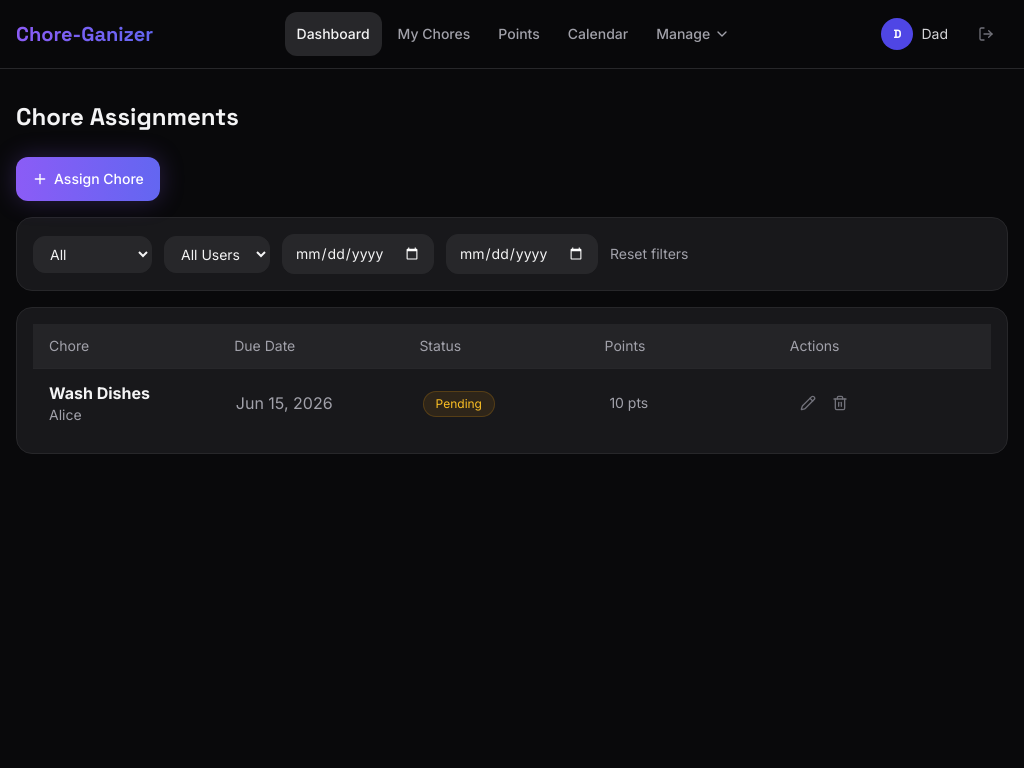
Test: AssignmentsPage › shows delete confirmation when delete icon clicked
Click the button named "Delete assignment" at coordinates (840, 403), box [828,391,852,415]
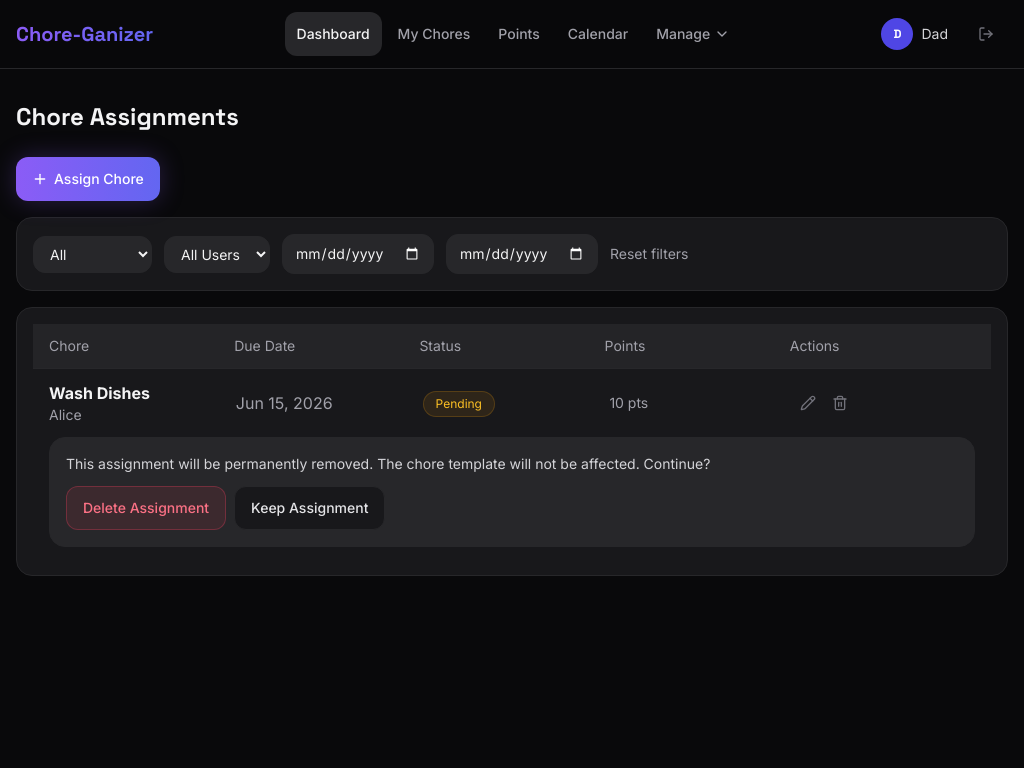
Result: the button "Delete Assignment" is shown at [66,486,226,530]
